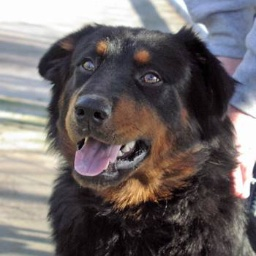dog: (30, 23, 252, 256)
